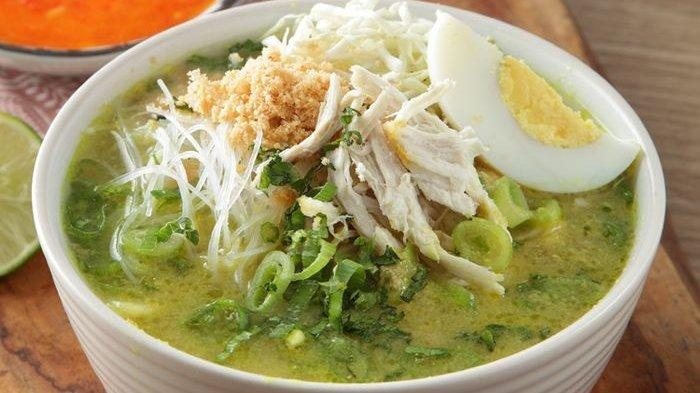soto: (30, 1, 696, 383)
